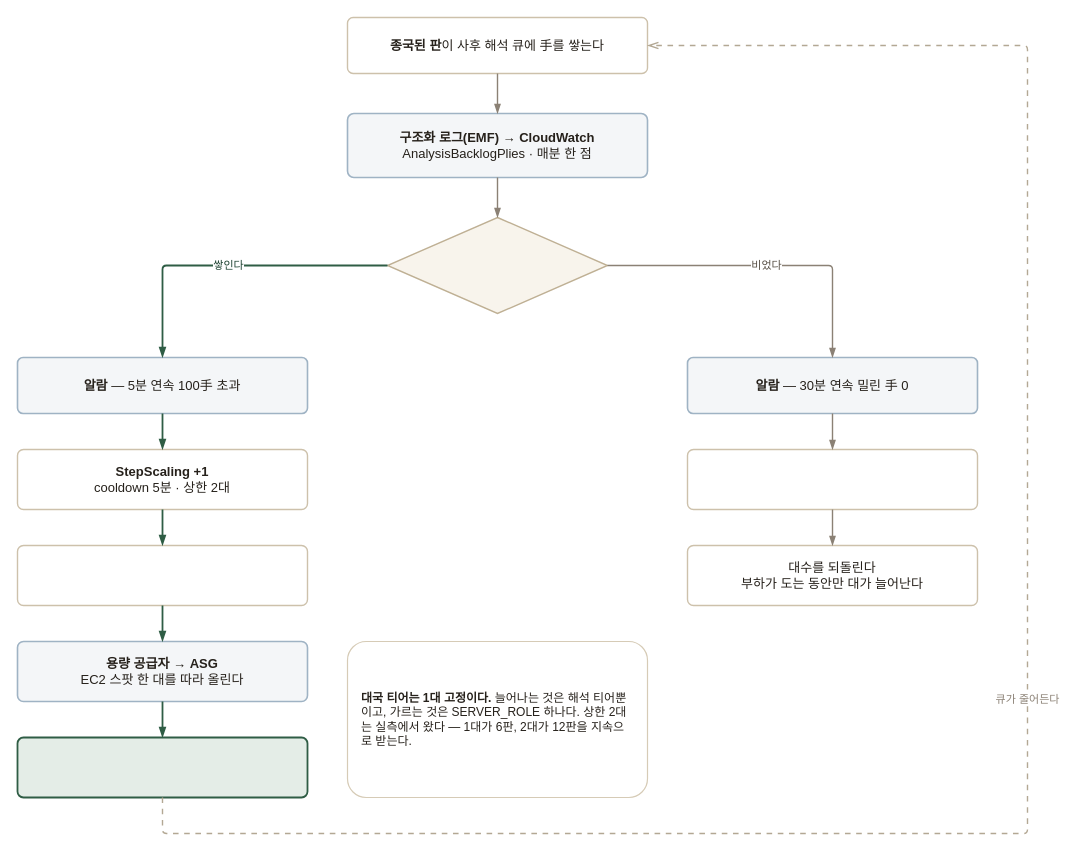
Some shapes in this 1077 by 862 pixel diagram are drawn without their labels. Here are the shapes that lost their labels. From the top down, the centre of each, then its label:
point 497,265: 밀린 手
point 832,479: StepScaling −1 cooldown 10분
point 162,575: ECS 서비스 desired_count ↑ 미배치 태스크가 생긴다
point 162,767: 실측 3분 뒤 일을 받는다 큐를 함께 집는다
